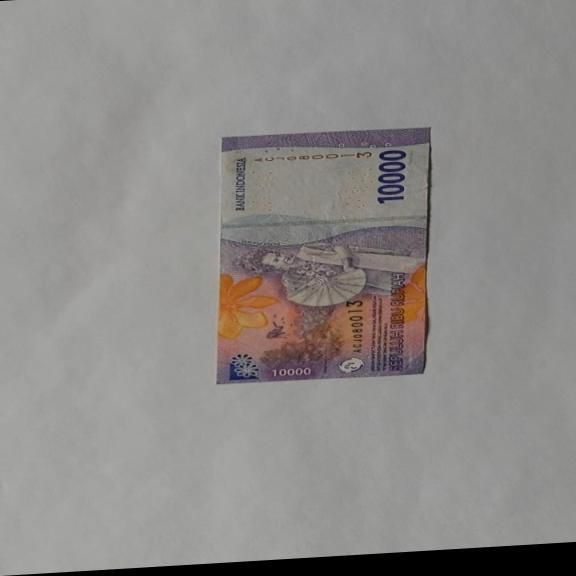Kertas: (214, 123, 432, 386), (374, 148, 408, 205)
